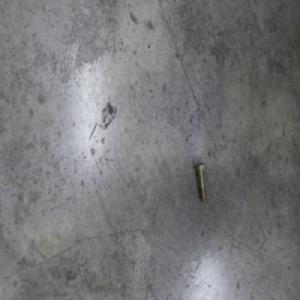Bolt: (194, 160, 207, 202)
